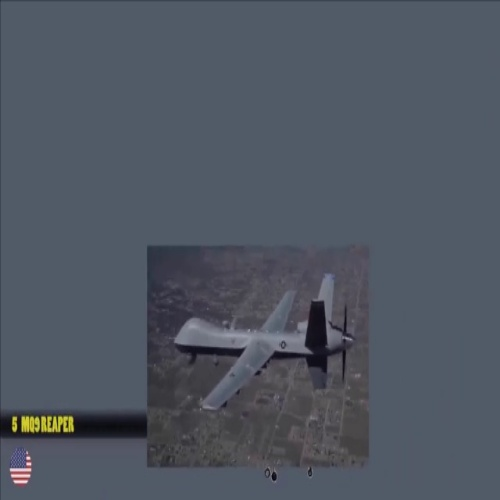uav919: (167, 270, 363, 413)
